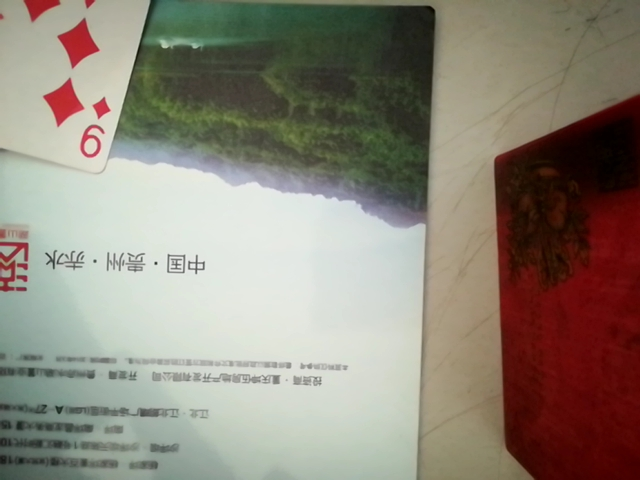fk 9: (1, 0, 167, 172)
